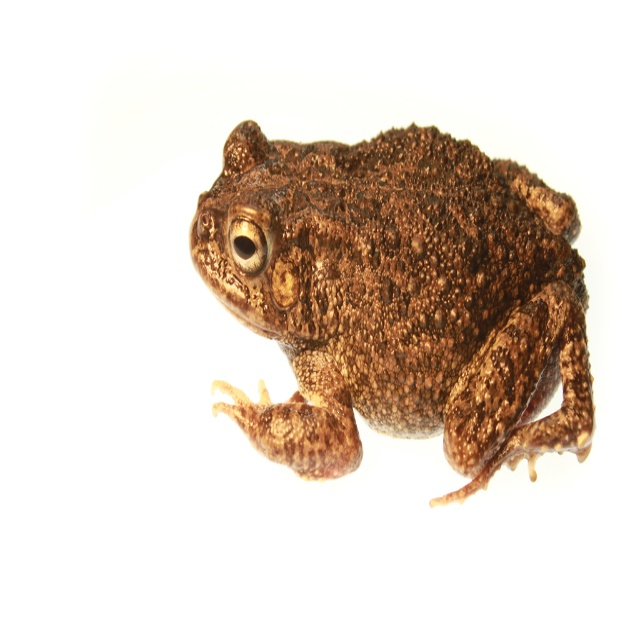Frog: (188, 118, 595, 511)
